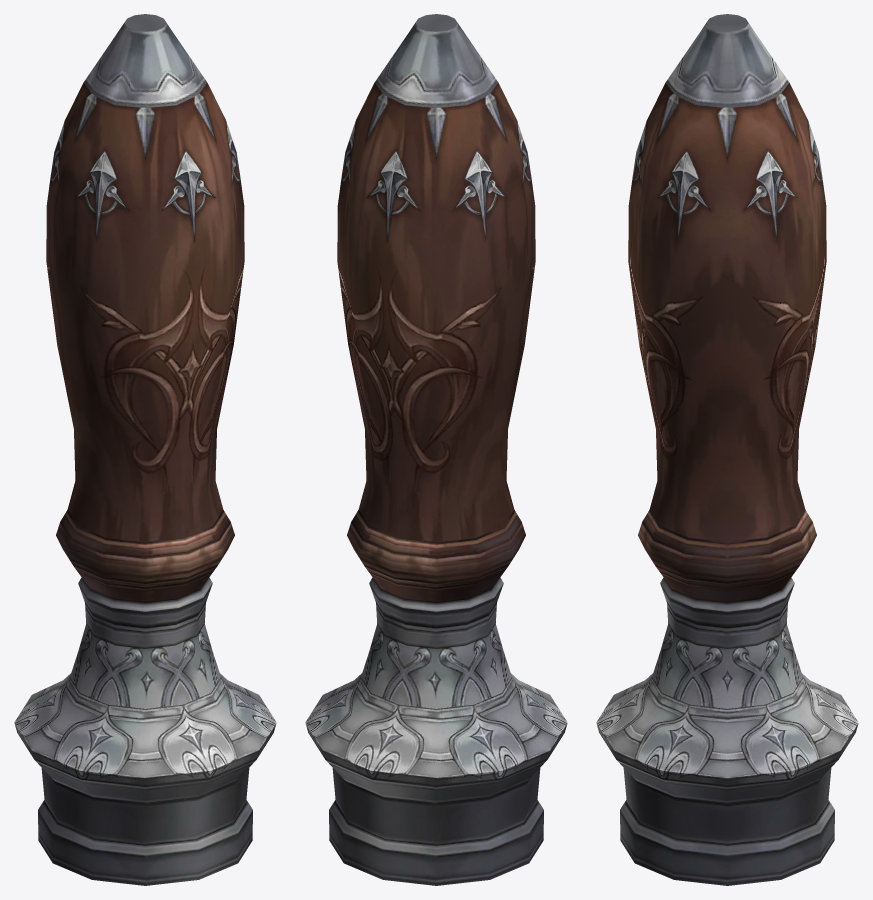
Rendered from Hero_Ricardo_Cos18SL_Weapon.fbx.
The picture shows the model from 3 angles, left to right: view 1: azimuth 30°, elevation 25°; view 2: azimuth 150°, elevation 25°; view 3: azimuth 270°, elevation 25°; orthographic projection.
Parts seen in each view (by area): view 1: Hero_Ricardo_Cos18SL_Weapon; view 2: Hero_Ricardo_Cos18SL_Weapon; view 3: Hero_Ricardo_Cos18SL_Weapon.
Part boxes in pixels (x1,y1,x2,y2): Hero_Ricardo_Cos18SL_Weapon: [14, 14, 276, 885]; Hero_Ricardo_Cos18SL_Weapon: [305, 14, 567, 885]; Hero_Ricardo_Cos18SL_Weapon: [596, 14, 858, 885].
Size of the model in its own units: 0.6356 by 2.19 by 0.6357.
1 material, 1 textured.
